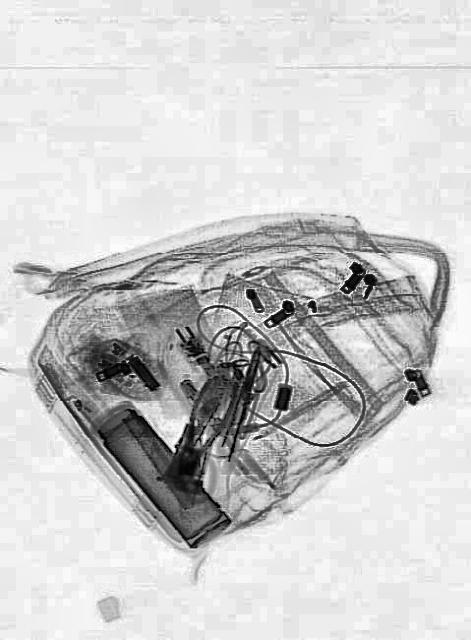Pliers: (164, 364, 244, 490)
